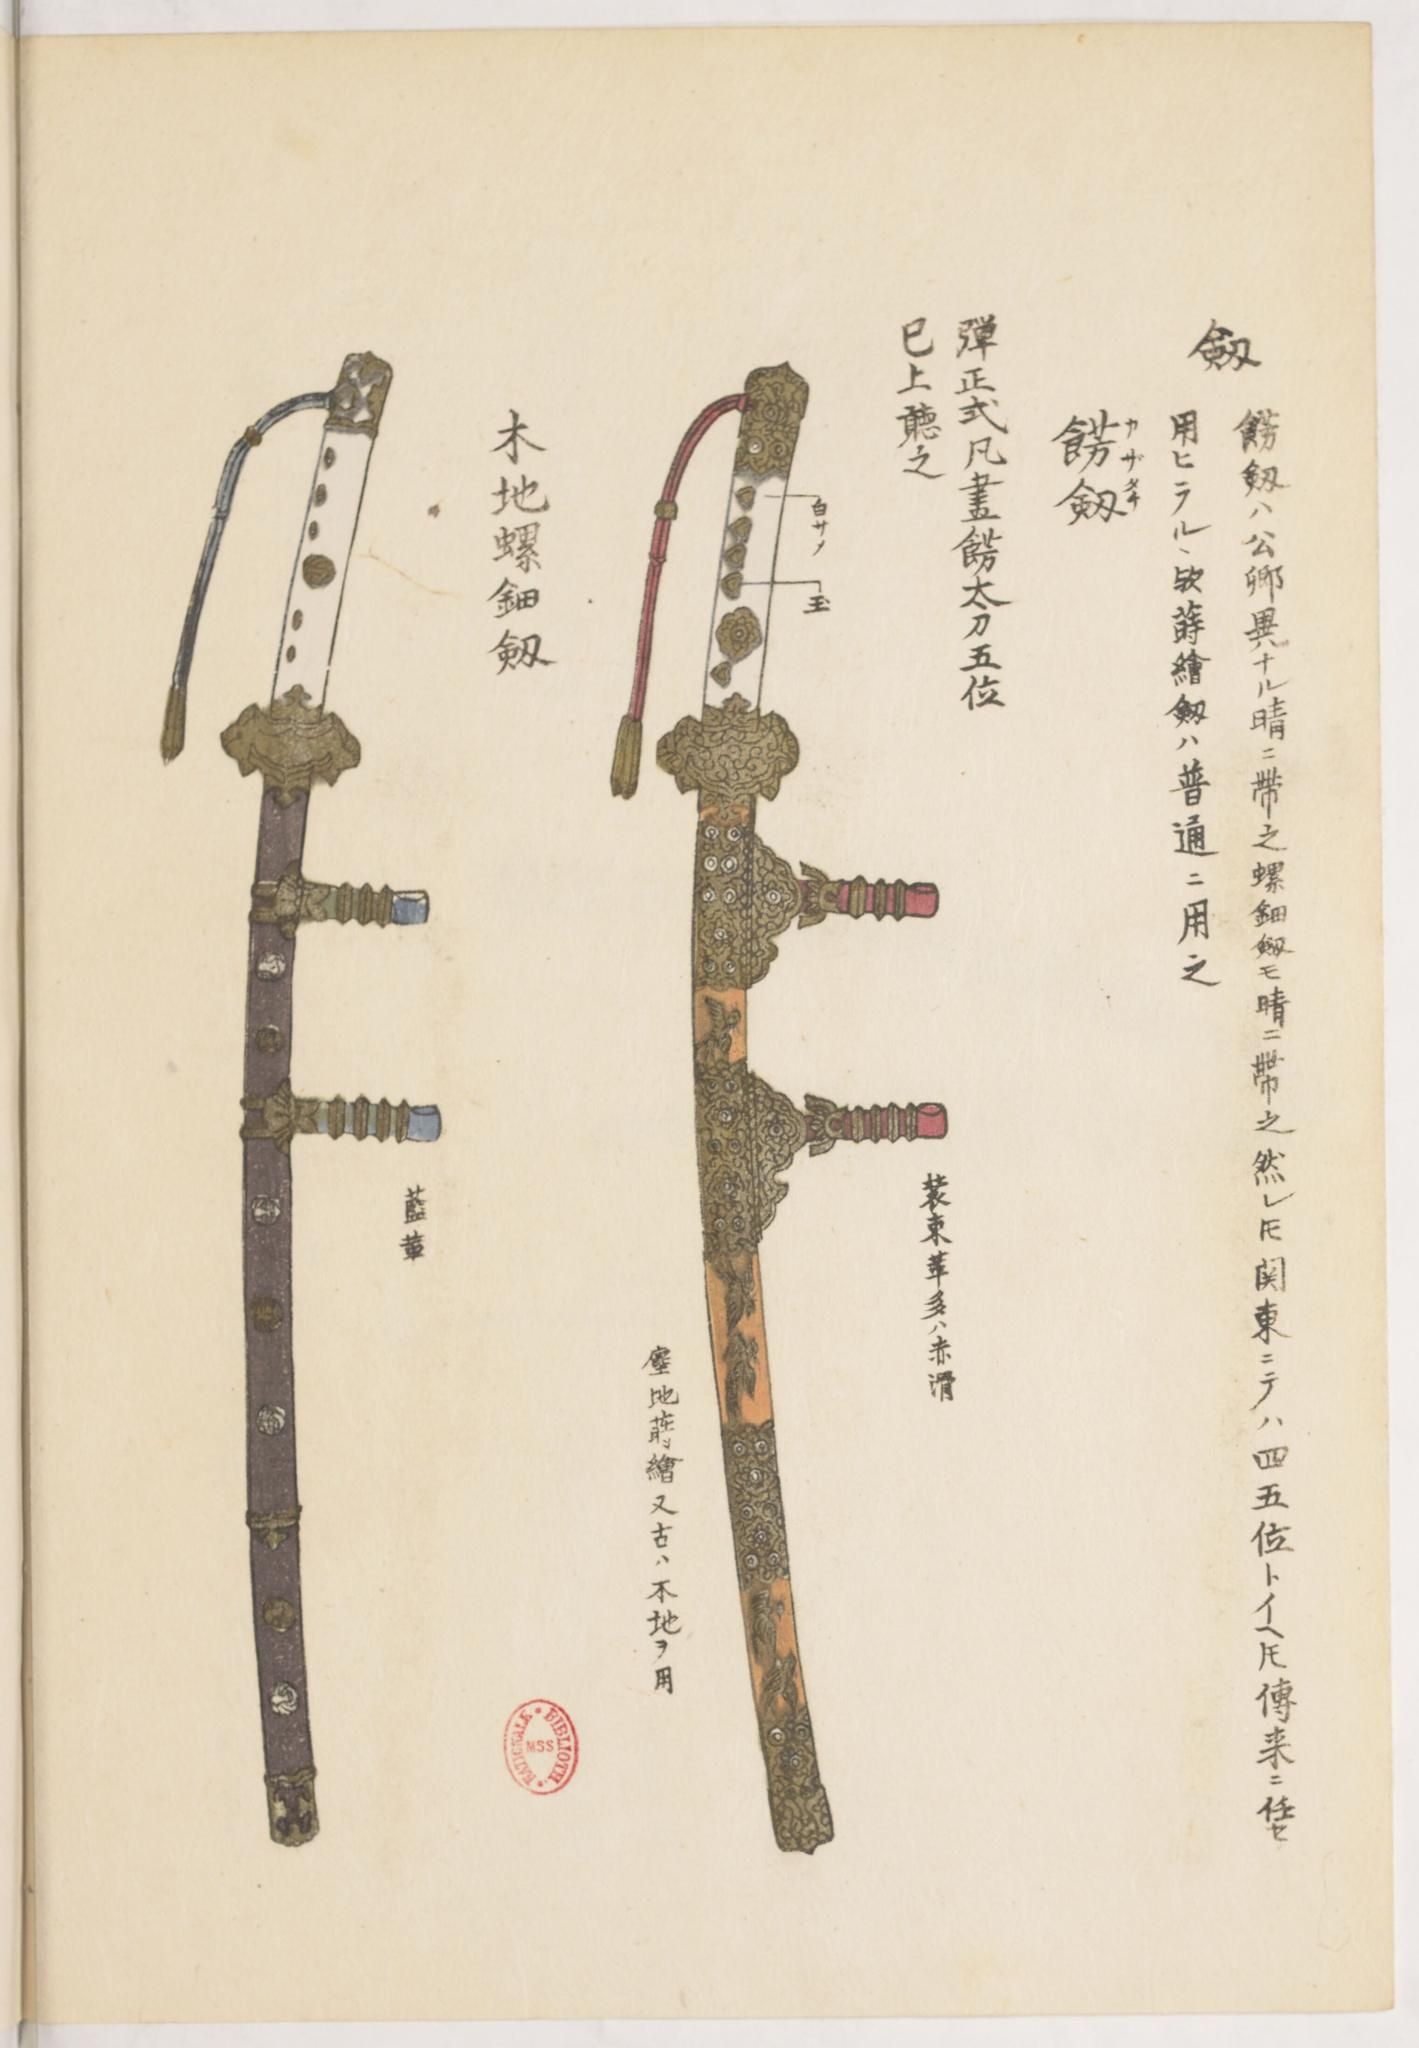MainZone-Character: (1053, 406, 1147, 473), (1050, 473, 1147, 528)
MainZone-Ruby: (1122, 412, 1147, 470), (1122, 472, 1148, 510)
